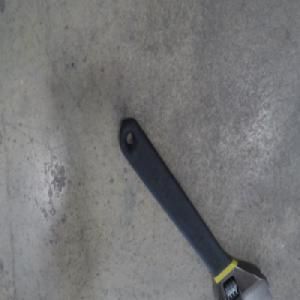AdjustableWrench: (118, 117, 272, 300)
